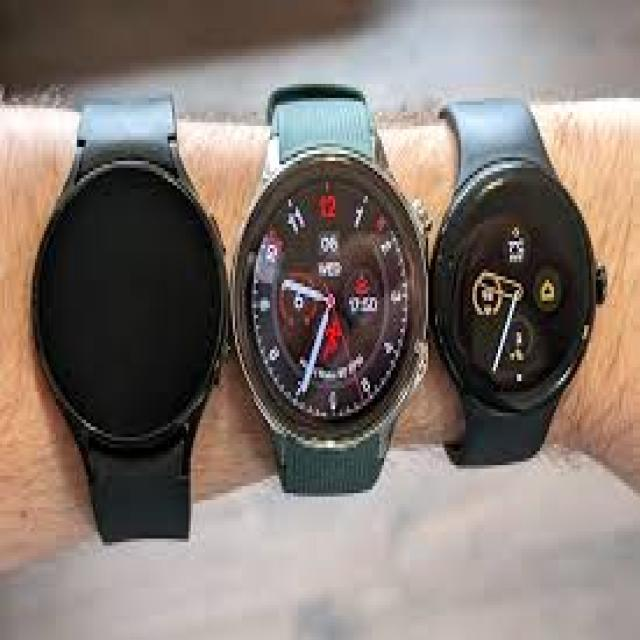objects: (35, 98, 223, 548), (233, 84, 426, 499), (433, 101, 609, 465)
